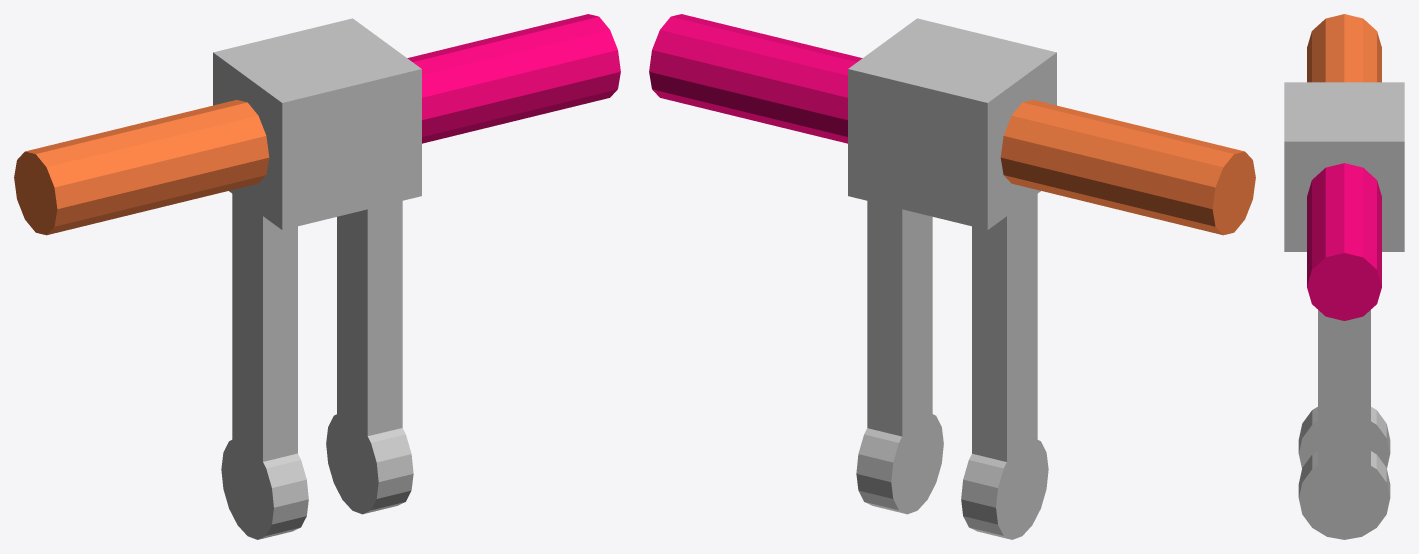
The model's file is hebel2.obj.
3 views of the same model, side by side, from view 1: azimuth 30°, elevation 25°; view 2: azimuth 150°, elevation 25°; view 3: azimuth 270°, elevation 25° (orthographic). The views are drawn at different scales.
Parts seen in each view (by area): view 1: hebel2; view 2: hebel2; view 3: hebel2.
Part boxes in pixels (x1,y1,x2,y2): hebel2: [14, 14, 620, 539]; hebel2: [649, 14, 1255, 539]; hebel2: [1284, 14, 1404, 539].
Size of the model in its own units: 0.5568 by 0.4329 by 0.1183.
